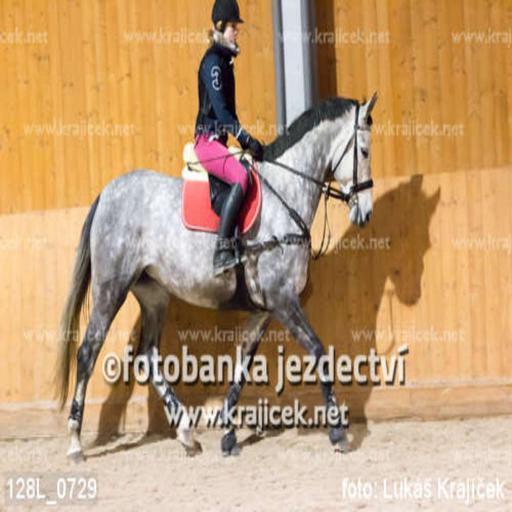horse: (46, 89, 376, 463)
